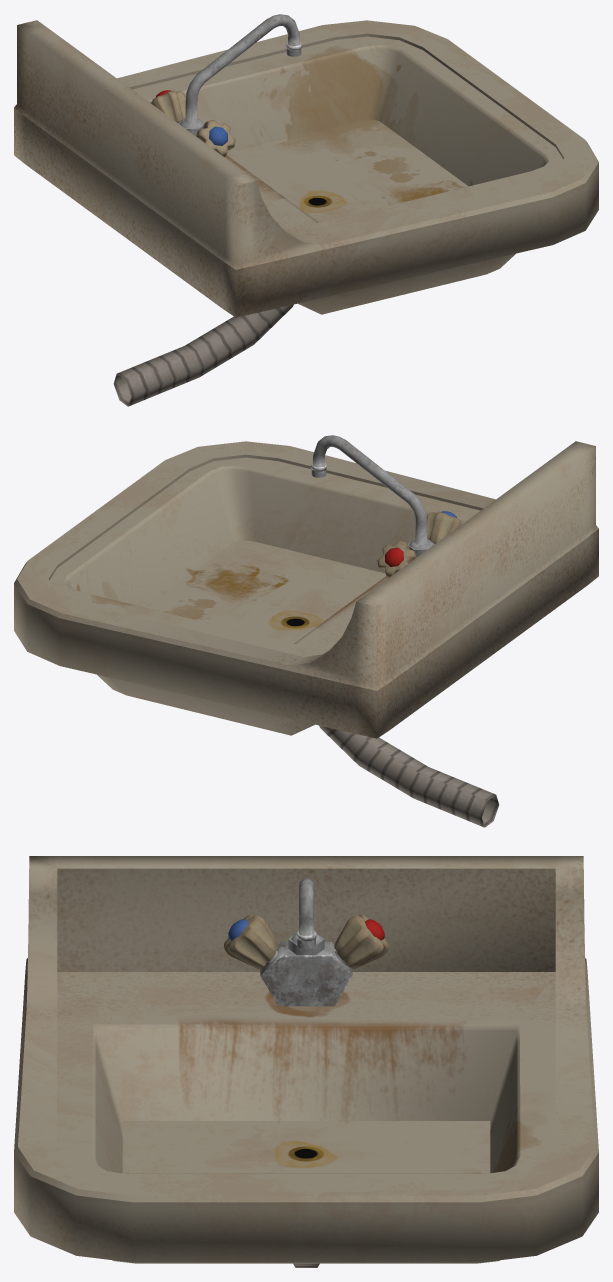
The model's file is Lavaplatos.fbx.
3 views of the same model, one above another, from view 1: azimuth 30°, elevation 25°; view 2: azimuth 150°, elevation 25°; view 3: azimuth 270°, elevation 25° (orthographic). The views are drawn at different scales.
Parts seen in each view (by area): view 1: Sink; view 2: Sink; view 3: Sink.
Boxes of the visible parts, x1,y1,x2,y2 form: Sink: [14, 14, 598, 406]; Sink: [14, 435, 598, 827]; Sink: [14, 856, 598, 1267].
Bounding box in the file's own units: 136 × 114 × 137.
Materials: 1 (1 with a texture image).
